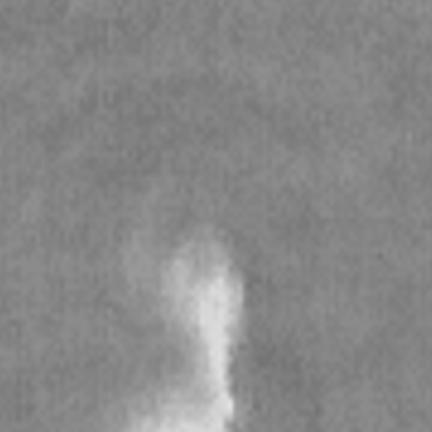flukeprints: (169, 241, 242, 431)
